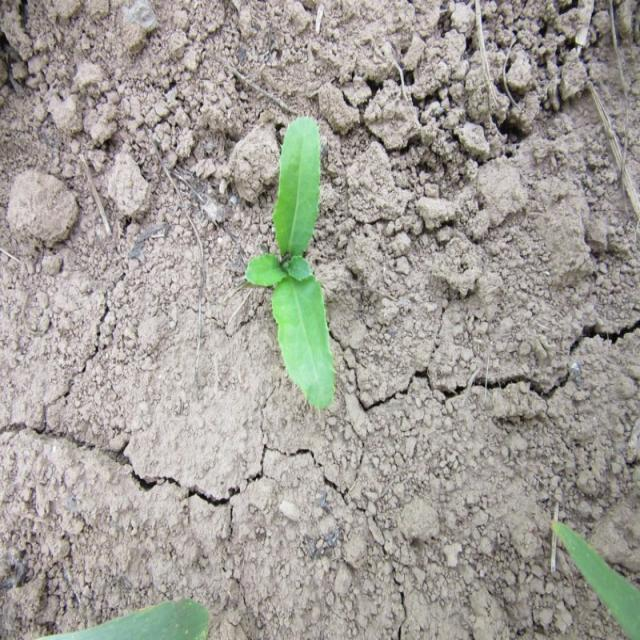field_thistle: (211, 82, 355, 423)
